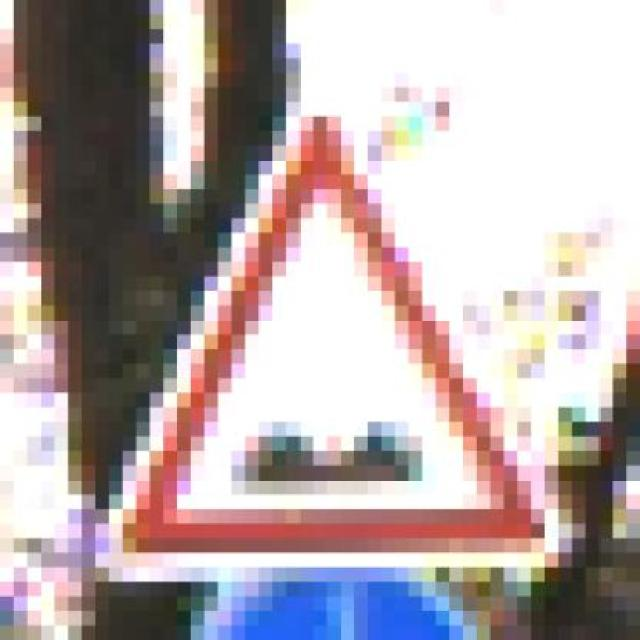Uneven Road: (82, 87, 586, 567)
